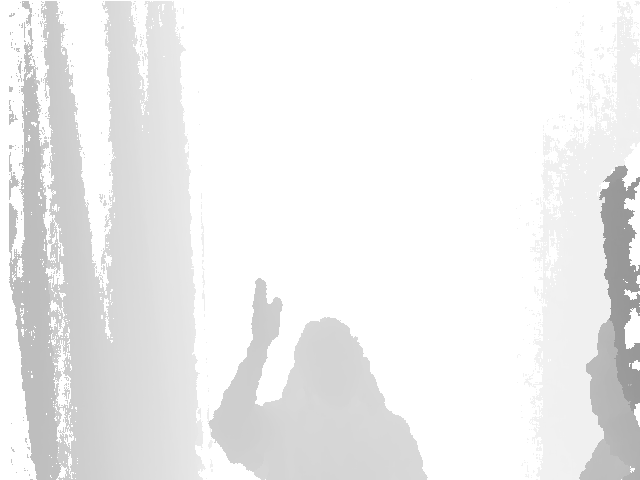hand: (251, 279, 279, 346)
head: (284, 317, 384, 407), (585, 317, 640, 424)
person: (208, 279, 428, 480), (577, 163, 640, 480)
